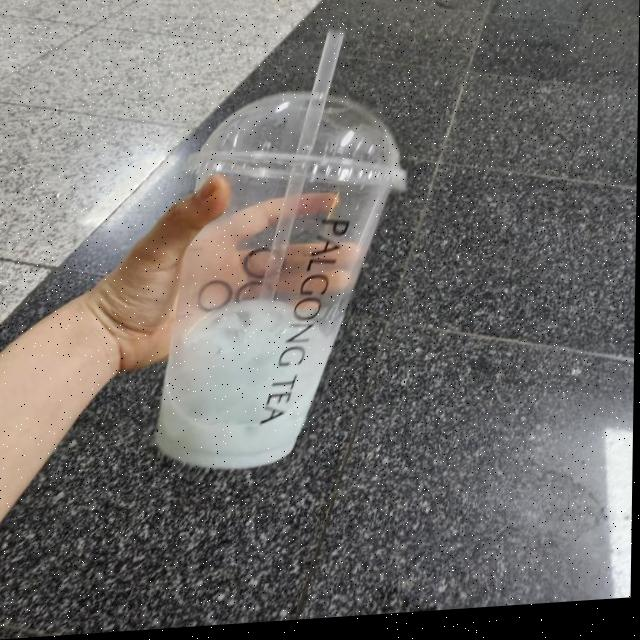cup: (139, 72, 413, 486)
